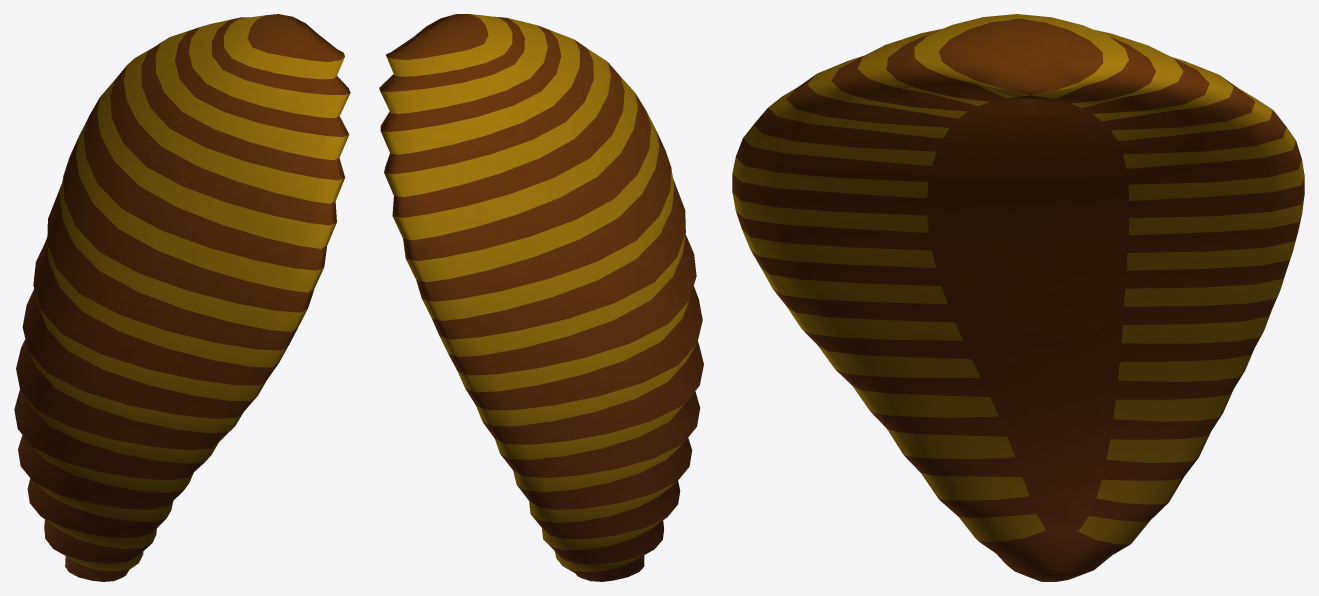
File: Ingredient_MoleScale.fbx
The picture shows the model from 3 angles, left to right: view 1: azimuth 30°, elevation 25°; view 2: azimuth 150°, elevation 25°; view 3: azimuth 270°, elevation 25°; orthographic projection. The views are drawn at different scales.
Visible parts, largest first — view 1: Ingredient_MoleScale; view 2: Ingredient_MoleScale; view 3: Ingredient_MoleScale.
Part boxes in pixels (x1,y1,x2,y2): Ingredient_MoleScale: [14, 14, 350, 581]; Ingredient_MoleScale: [379, 14, 703, 581]; Ingredient_MoleScale: [732, 14, 1304, 581].
Size of the model in its own units: 56.46 by 94.42 by 75.25.
Materials: 1 (1 with a texture image).
